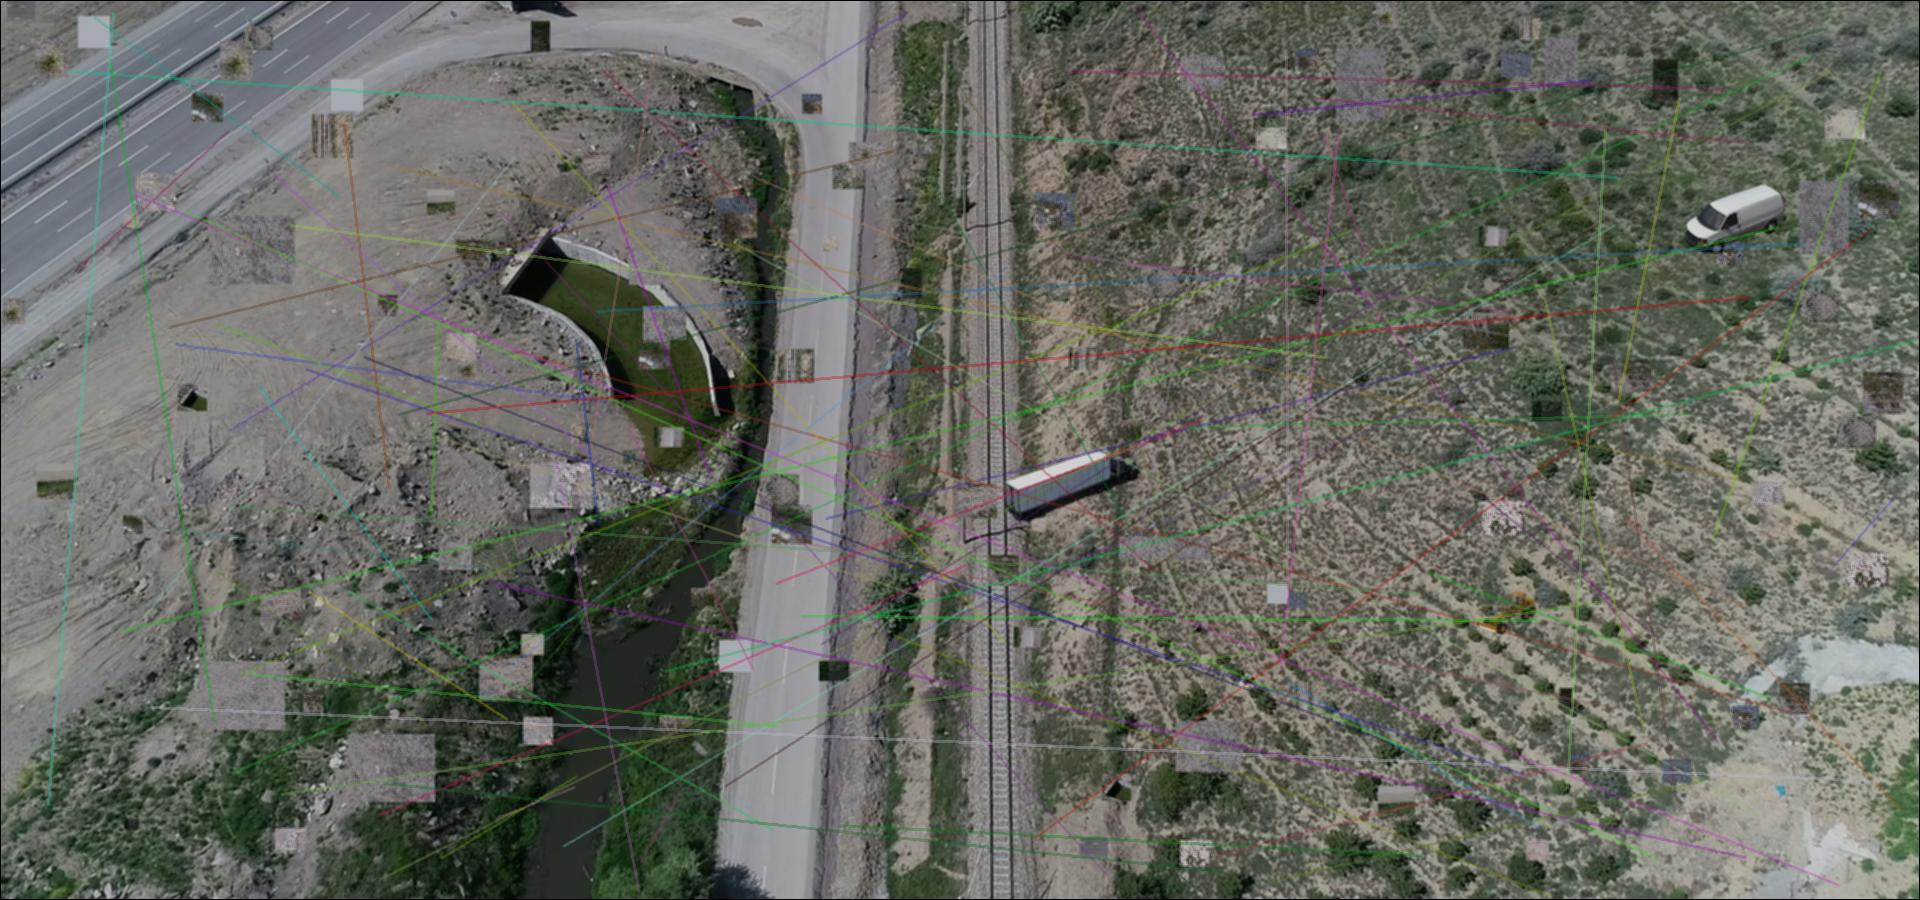arac: (999, 451, 1141, 520), (1685, 184, 1787, 253), (1476, 589, 1540, 637)
